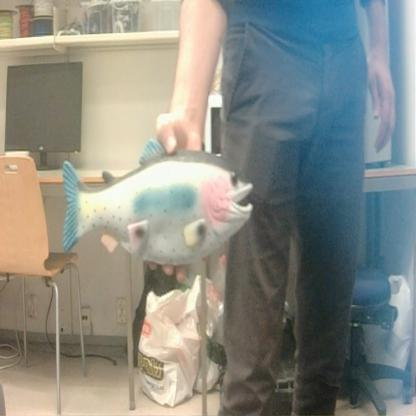rubberfish: (60, 129, 256, 270)
